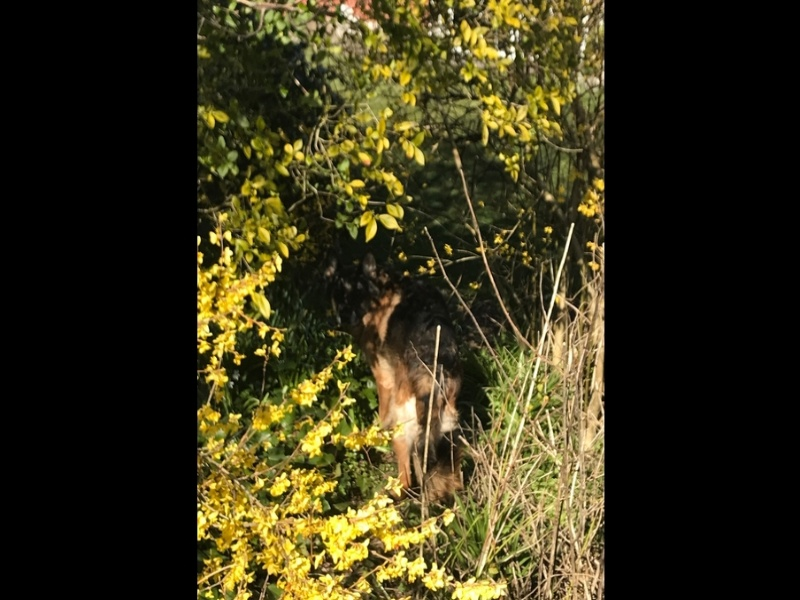dog: (335, 248, 496, 519)
